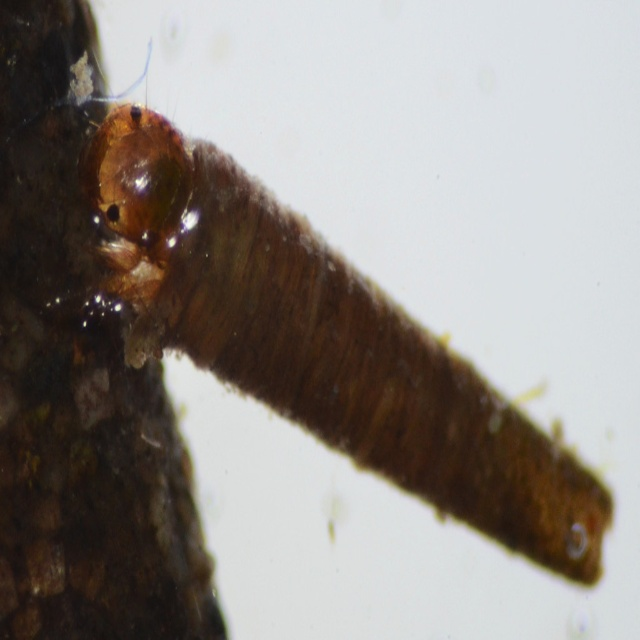Caterpillar: (79, 93, 617, 591)
